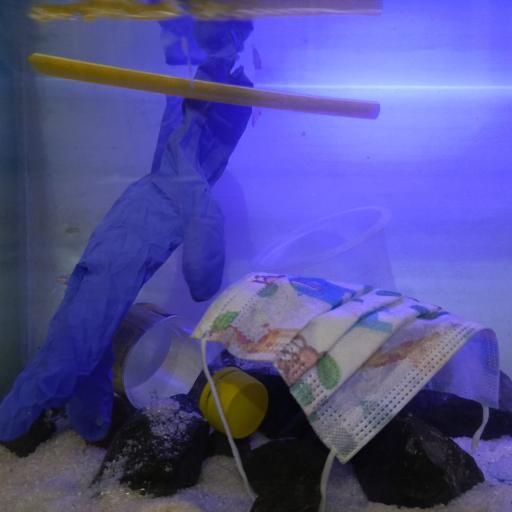bottle_cap: (208, 371, 268, 441)
glove: (1, 52, 256, 442)
mask: (195, 270, 499, 464)
plastic_bottle: (30, 279, 268, 441)
plastic_cup: (252, 204, 394, 294)
plastic_straw: (28, 52, 382, 120)
